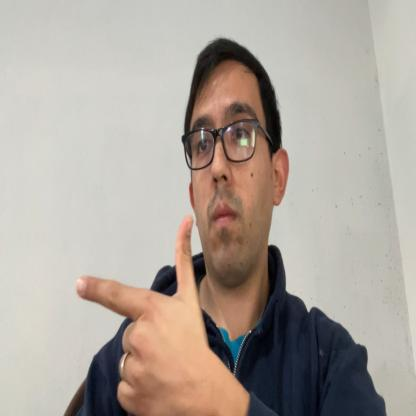G: (75, 215, 212, 415)
